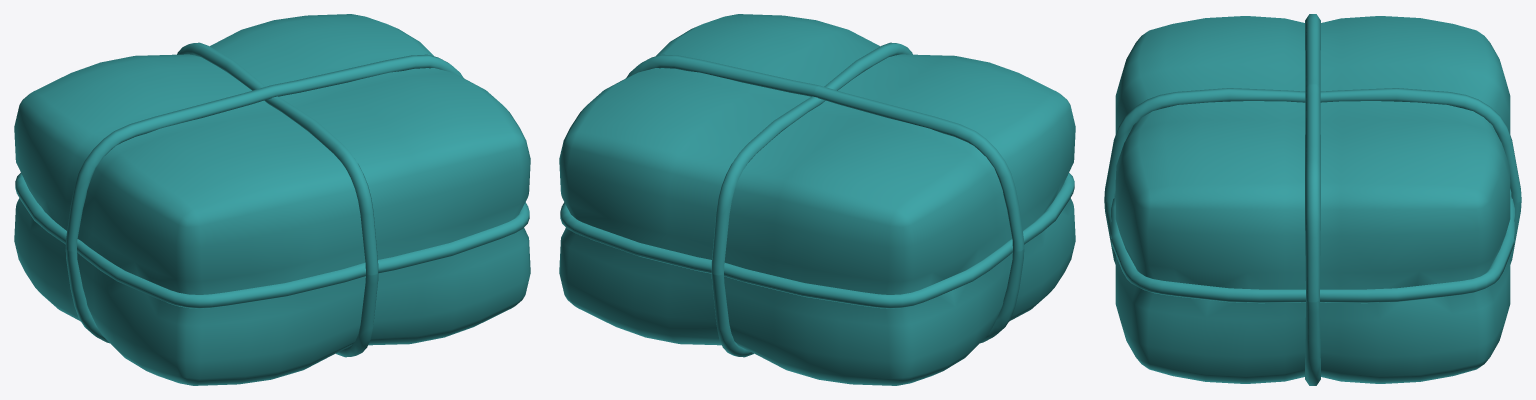
The model's file is SM_Construction_Kit_Bag.fbx.
3 renders of one model, left to right at view 1: azimuth 30°, elevation 25°; view 2: azimuth 150°, elevation 25°; view 3: azimuth 270°, elevation 25°, orthographic. The views are drawn at different scales.
Visible parts, largest first — view 1: SM_Construction_Kit_Bag; view 2: SM_Construction_Kit_Bag; view 3: SM_Construction_Kit_Bag.
Boxes of the visible parts, x1,y1,x2,y2 form: SM_Construction_Kit_Bag: [14, 14, 530, 385]; SM_Construction_Kit_Bag: [559, 14, 1075, 385]; SM_Construction_Kit_Bag: [1104, 14, 1521, 385].
Size of the model in its own units: 107 by 56.27 by 91.92.
